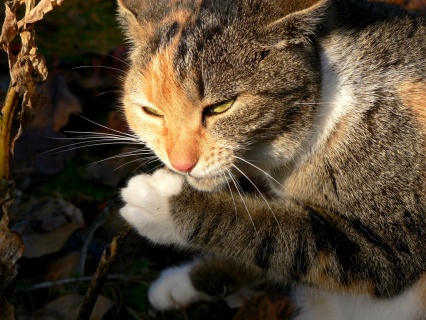Cat: (35, 0, 426, 319)
